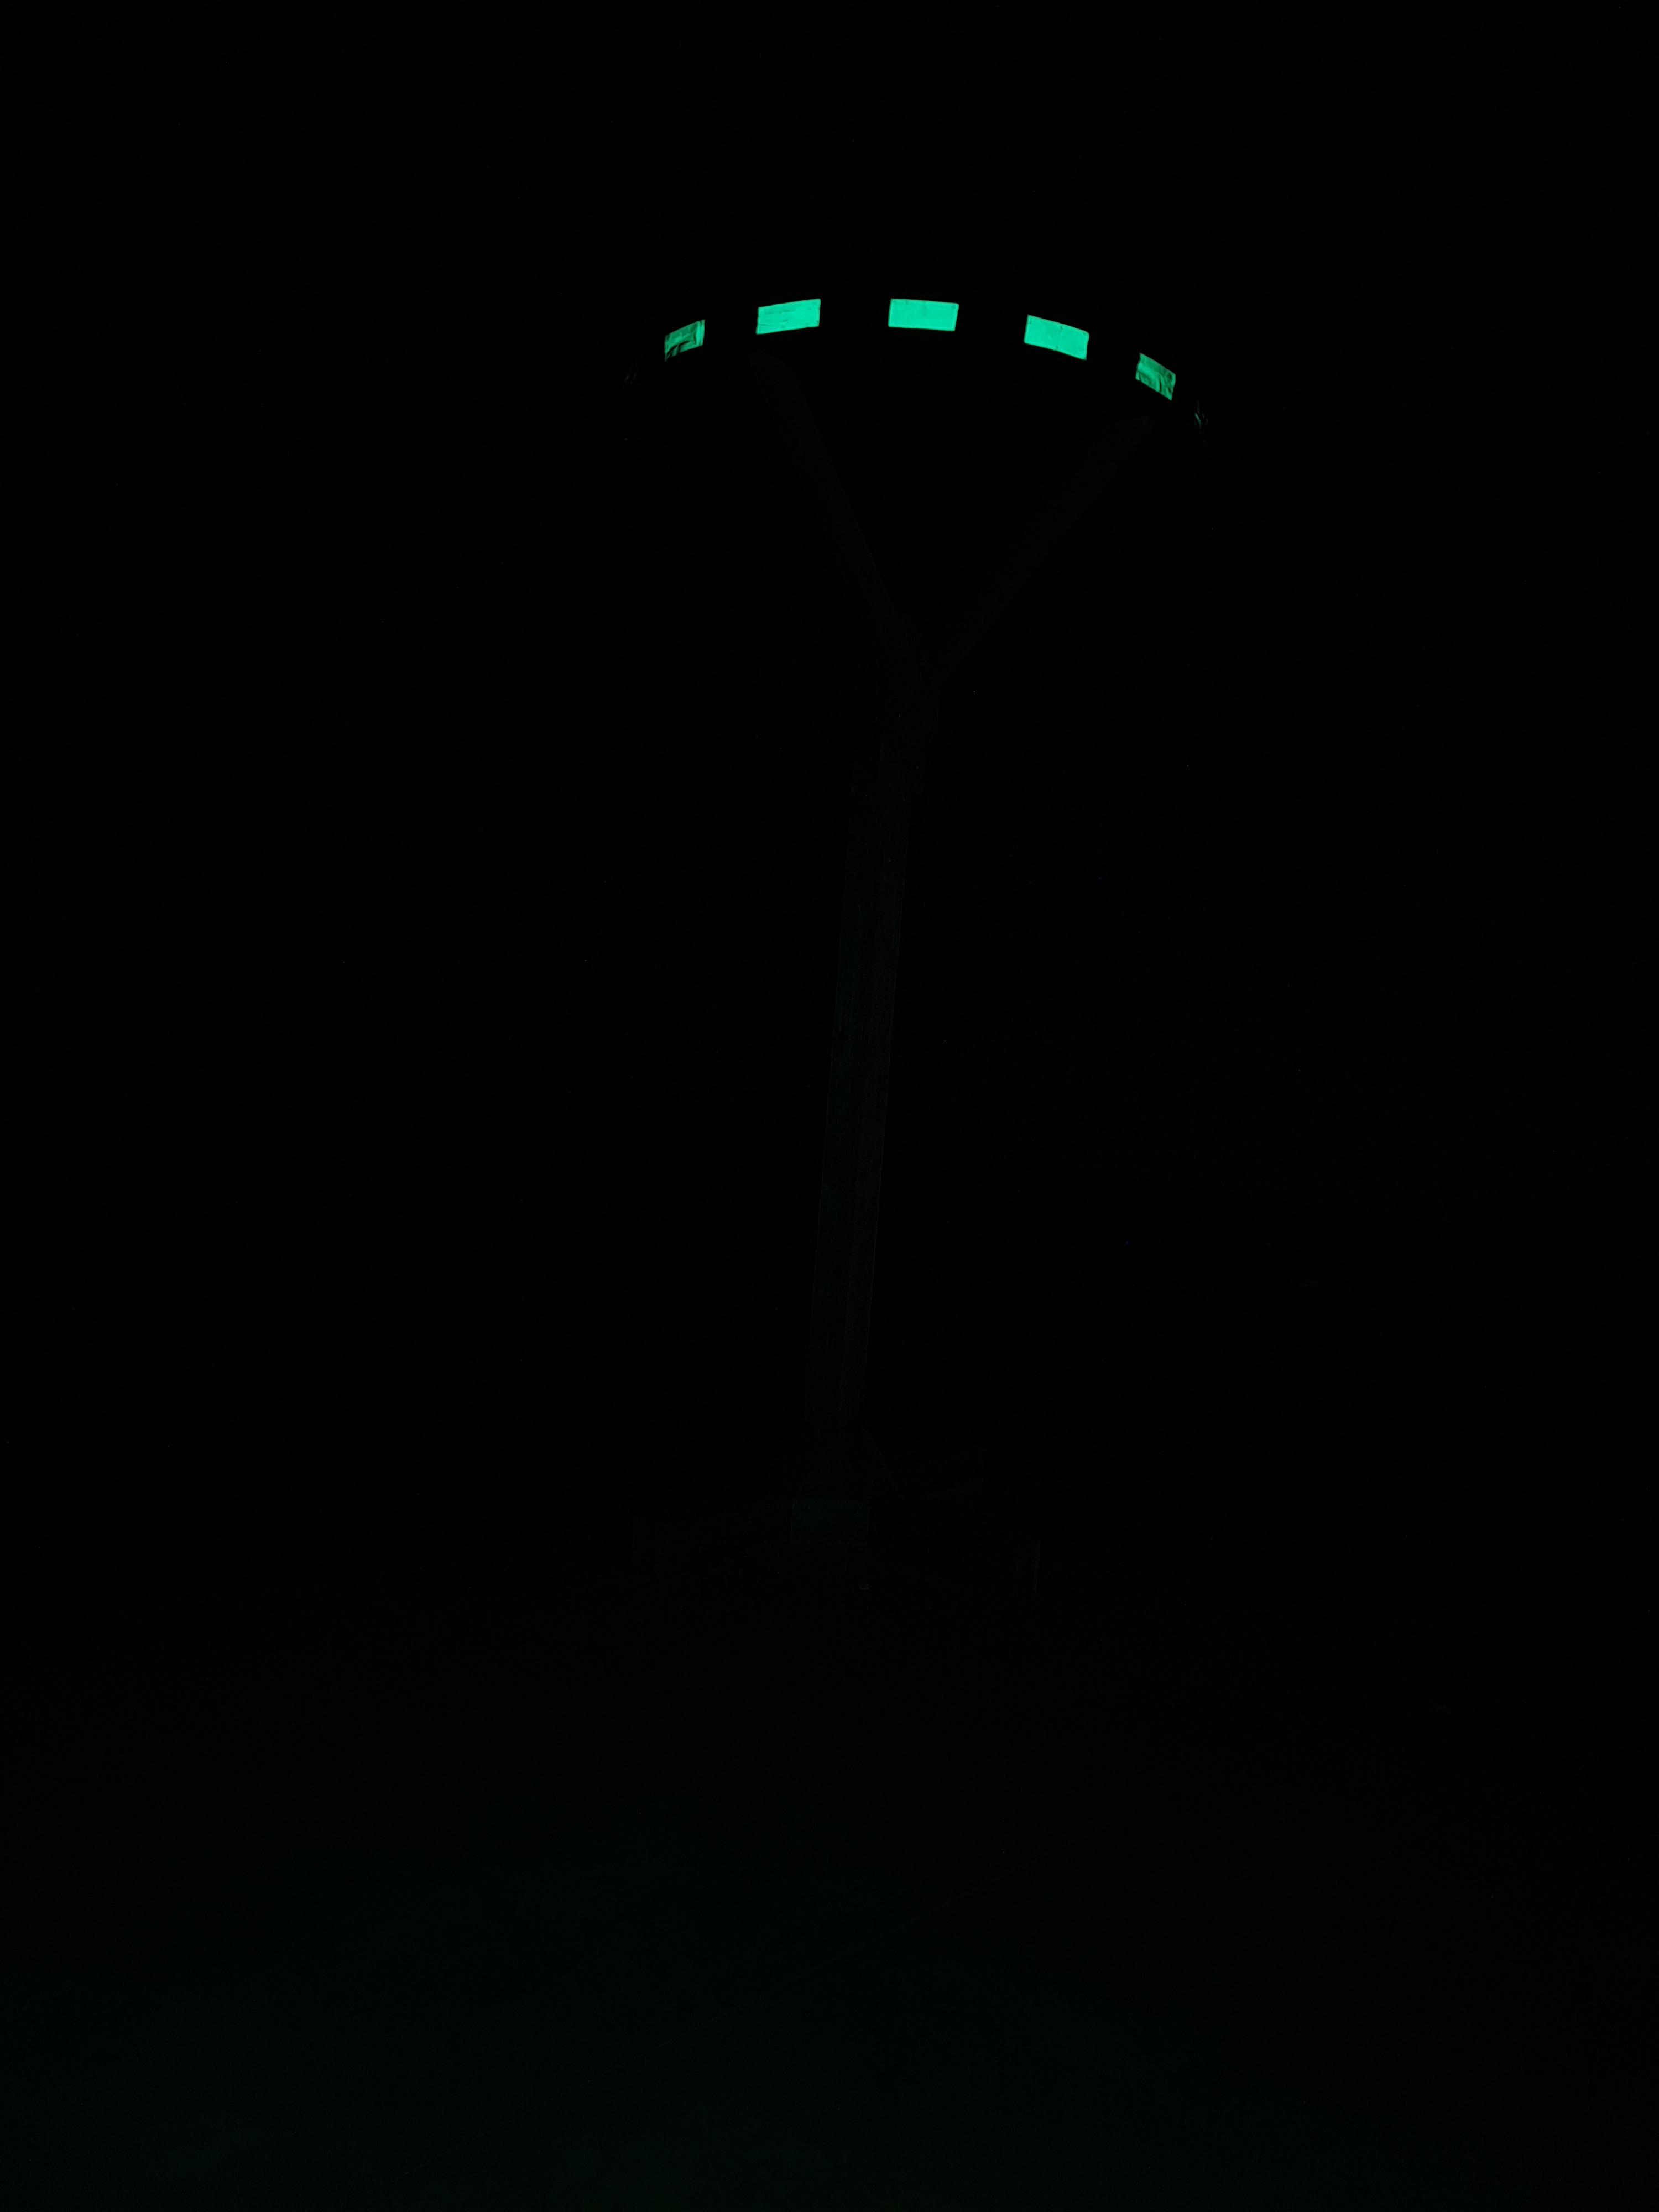hoop: (660, 287, 1182, 408)
